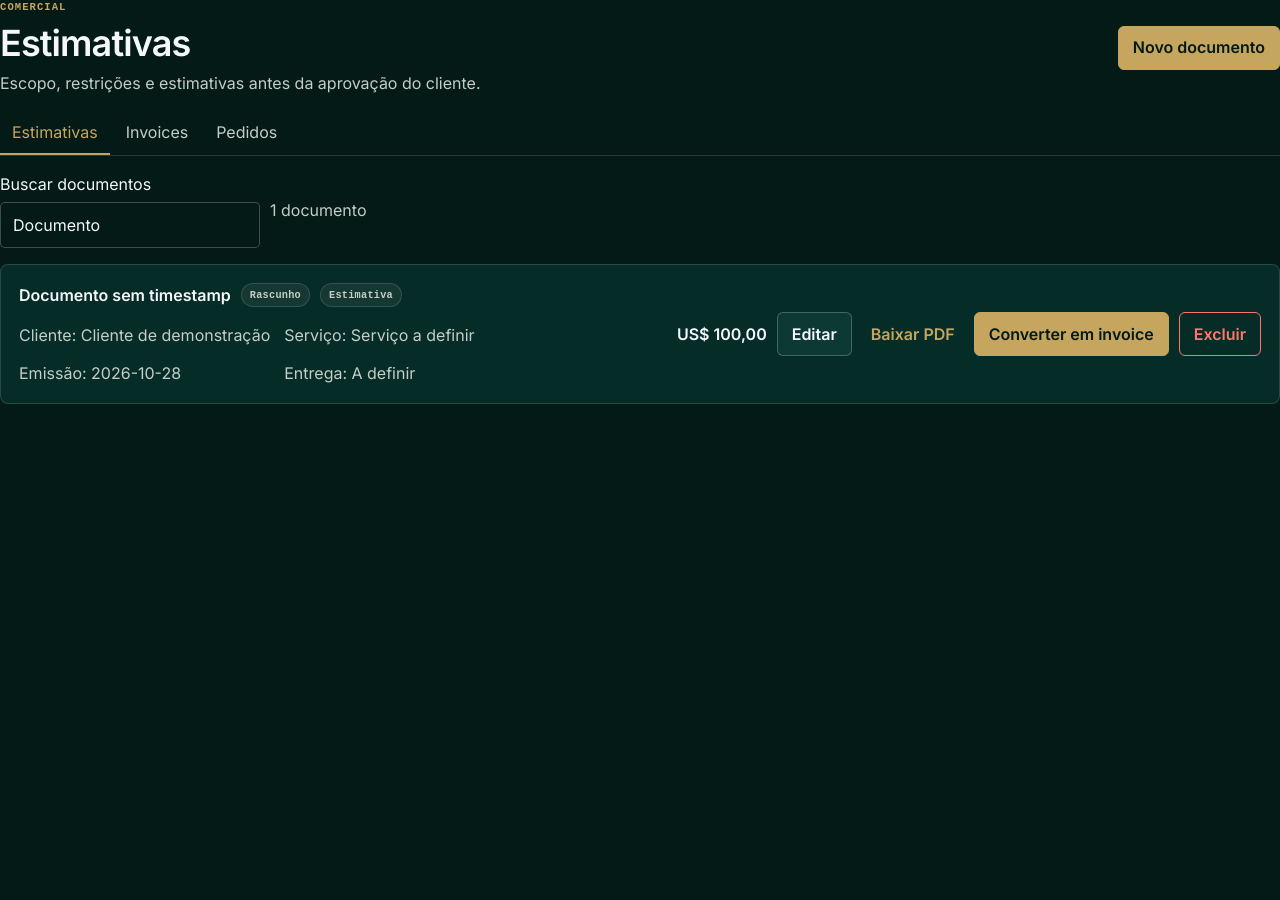
Test: documentos comerciais existentes › abre e edita serviço legado desconhecido 3d-printing
Expected: the text "Serviço: Serviço a definir" is shown, [284, 325, 474, 345]
Click the button "Editar": (814, 334) [777, 312, 852, 356]
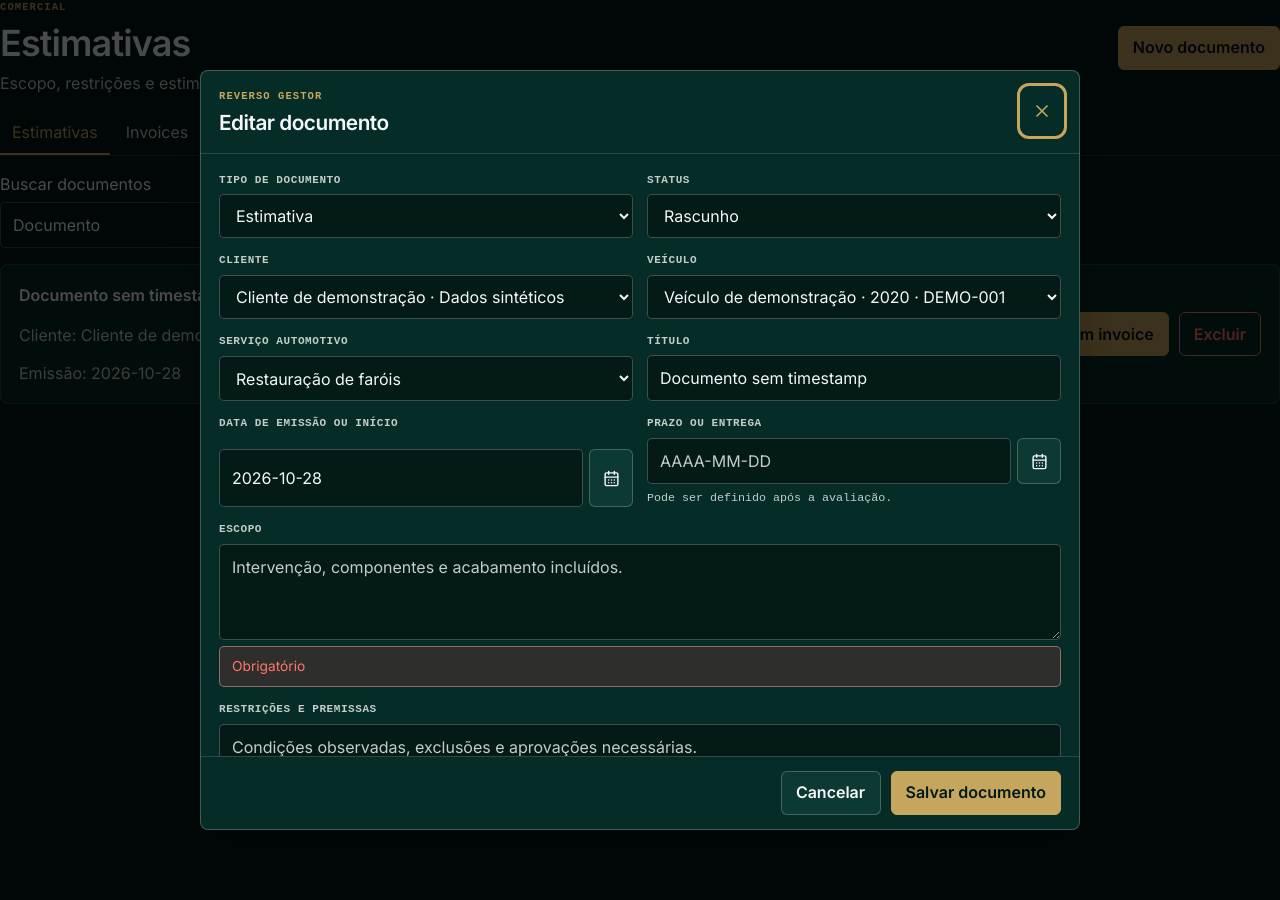
Now the dialog is shown, box [200, 70, 1080, 830]
